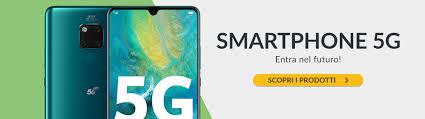Smartphone: (106, 7, 202, 114), (52, 7, 103, 119)
